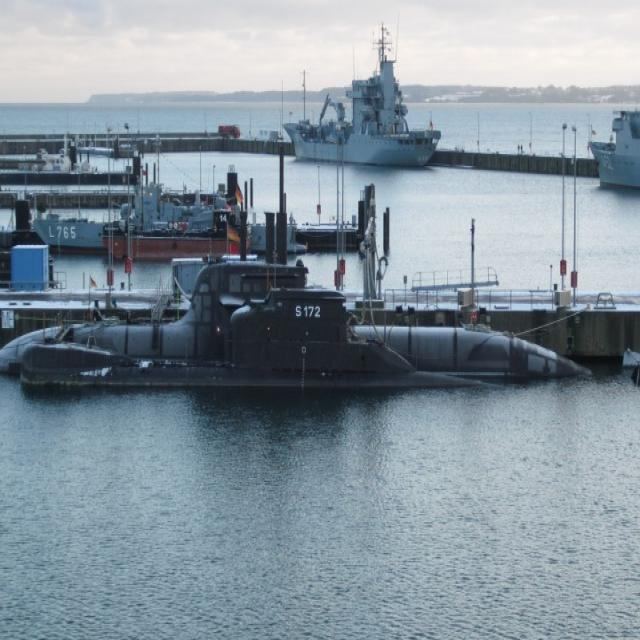submarine: (9, 273, 490, 384)
